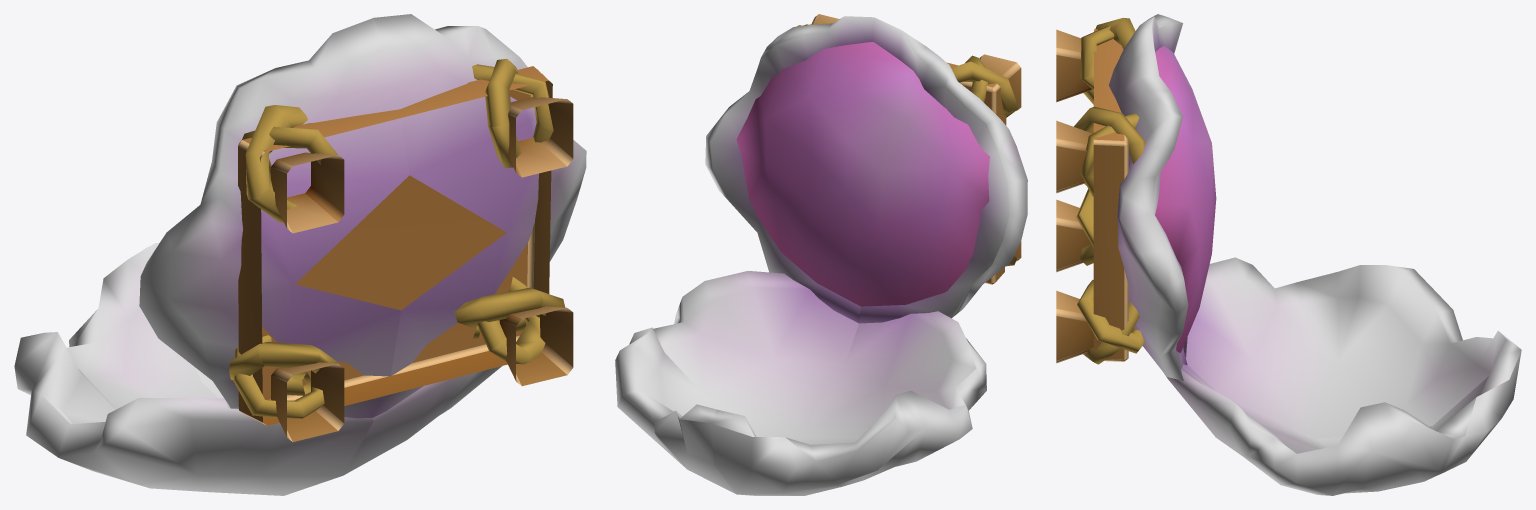
Rendered from ShellChair.fbx.
3 renders of one model, left to right at view 1: azimuth 30°, elevation 25°; view 2: azimuth 150°, elevation 25°; view 3: azimuth 270°, elevation 25°, orthographic. The views are drawn at different scales.
Visible parts, largest first — view 1: ShellChair; view 2: ShellChair; view 3: ShellChair.
Boxes of the visible parts, bbox=[...] form: ShellChair: bbox=[14, 14, 586, 495]; ShellChair: bbox=[615, 14, 1027, 495]; ShellChair: bbox=[1056, 14, 1521, 495].
Size of the model in its own units: 98.03 by 111 by 104.
